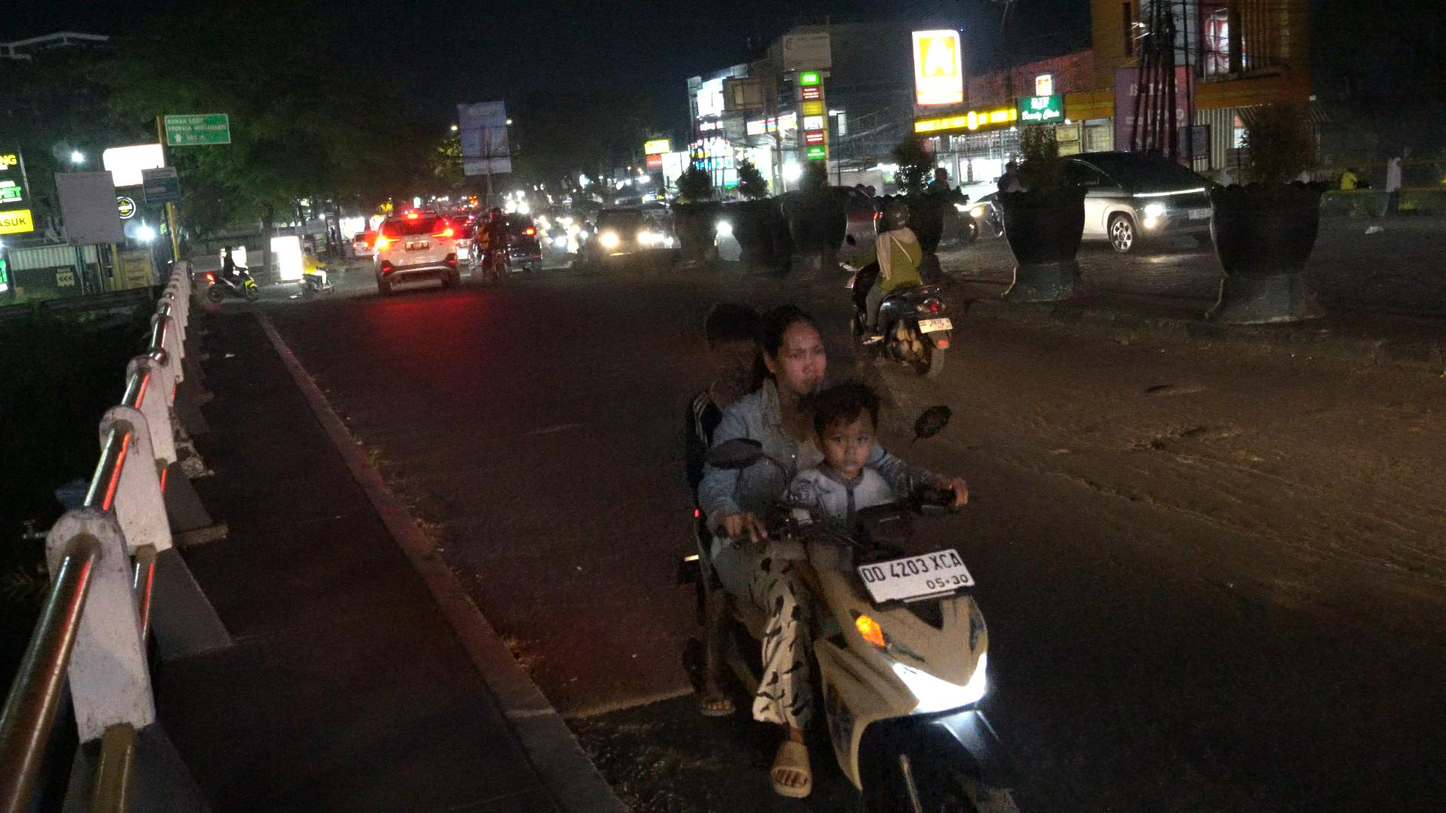number-plate: (856, 546, 981, 601)
